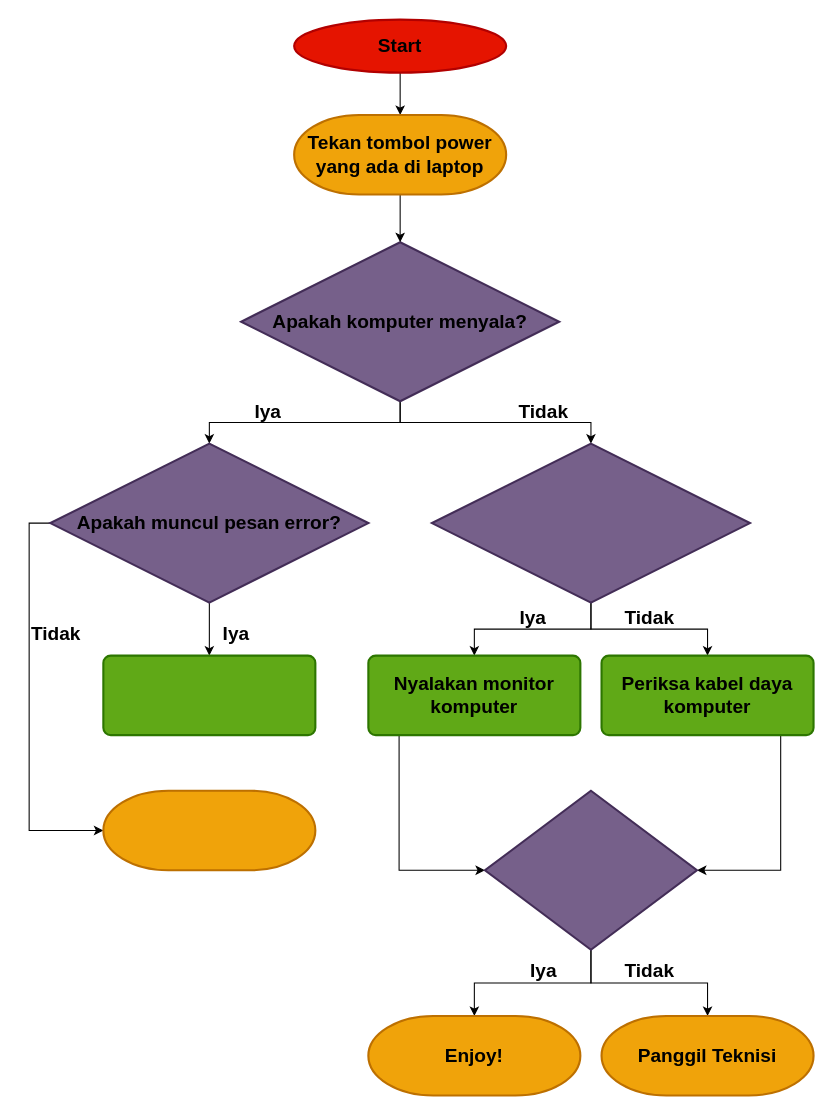
Image size: 832x1114. Some labels were removed from this diagram. The shapes that lost their labels are listed below. From the top down, each one's centre as x and y in pixels, then its label:
At pixel 590 522: "Apakah lampu daya pada komputer menyala?".
At pixel 209 695: "Lakukan pencarian untuk pesan error".
At pixel 209 830: "Komputer baik-baik saja".
At pixel 590 869: "Apakah masalah terselesaikan?".
